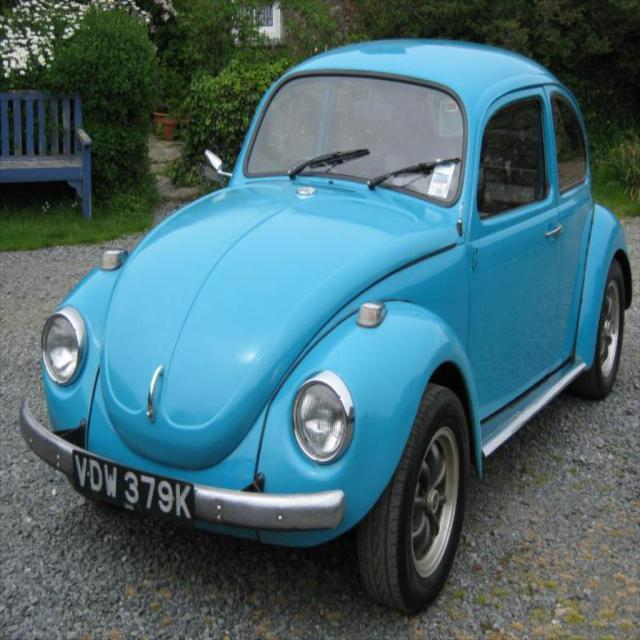car: (18, 36, 635, 617)
